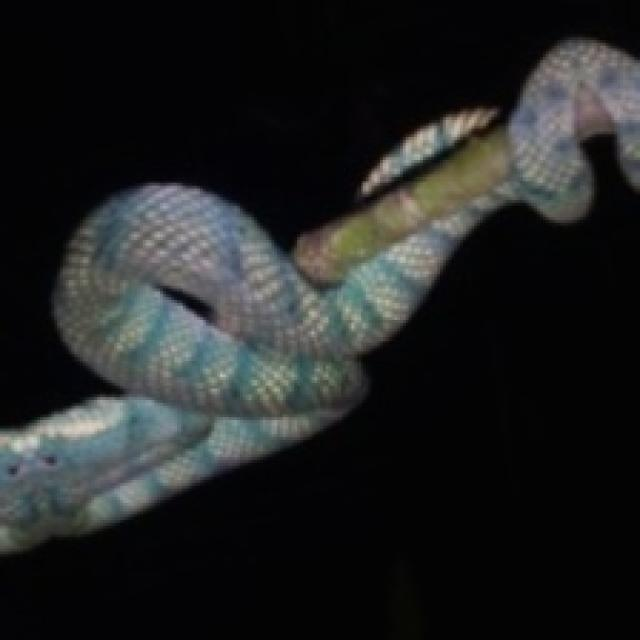north ph temple pitviper: (0, 37, 637, 549)
